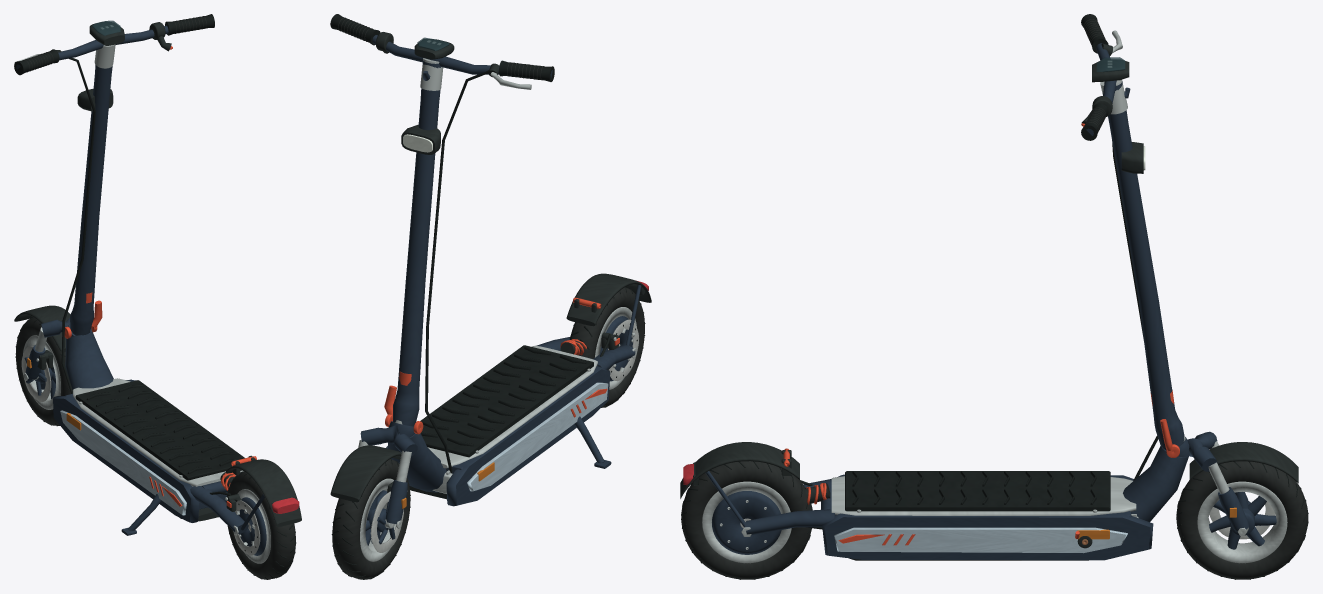
Rendered from StrideC10.glb.
The picture shows the model from 3 angles, left to right: view 1: azimuth 30°, elevation 25°; view 2: azimuth 150°, elevation 25°; view 3: azimuth 270°, elevation 25°; orthographic projection. The views are drawn at different scales.
Parts seen in each view (by area): view 1: Floorboard, DeckFrame, SteeringStem, RearTire, RearFender, HeadTube, FrontTire, RearSwingarm, WiringHarness, FrontFender, Handlebar, FrontRim (+10 smaller); view 2: Floorboard, SteeringStem, DeckFrame, FrontTire, RearTire, RearFender, FrontFender, HeadTube, WiringHarness, FrontRim, ForkSlider_L, Handlebar (+11 smaller); view 3: DeckFrame, Floorboard, SteeringStem, FrontTire, RearTire, FrontRim, RearHubMotor, HeadTube, RearFender, RearRim, FrontFender, RearSwingarm (+3 smaller).
Part boxes in pixels (<box>): Floorboard: <box>73,378,244,486</box>; DeckFrame: <box>53,379,227,522</box>; SteeringStem: <box>70,44,115,335</box>; RearTire: <box>225,471,296,579</box>; RearFender: <box>226,459,301,530</box>; HeadTube: <box>65,331,113,389</box>; FrontTire: <box>15,317,71,426</box>; RearSwingarm: <box>190,481,248,535</box>; WiringHarness: <box>61,58,95,393</box>; FrontFender: <box>14,305,70,352</box>; Handlebar: <box>16,25,168,69</box>; FrontRim: <box>23,335,60,409</box>; Floorboard: <box>420,345,597,468</box>; SteeringStem: <box>393,58,443,426</box>; DeckFrame: <box>386,366,610,506</box>; FrontTire: <box>331,458,410,579</box>; RearTire: <box>569,287,645,407</box>; RearFender: <box>566,273,651,345</box>; FrontFender: <box>330,445,401,502</box>; HeadTube: <box>387,433,446,492</box>; WiringHarness: <box>425,70,488,473</box>; FrontRim: <box>360,478,396,561</box>; ForkSlider_L: <box>386,450,411,528</box>; Handlebar: <box>372,35,552,77</box>; DeckFrame: <box>822,474,1153,560</box>; Floorboard: <box>831,471,1136,515</box>; SteeringStem: <box>1100,80,1184,448</box>; FrontTire: <box>1176,461,1308,579</box>; RearTire: <box>681,461,812,579</box>; FrontRim: <box>1197,481,1287,563</box>; RearHubMotor: <box>712,491,781,554</box>; HeadTube: <box>1123,446,1189,521</box>; RearFender: <box>680,442,799,527</box>; RearRim: <box>702,481,791,563</box>; FrontFender: <box>1189,442,1298,483</box>; RearSwingarm: <box>741,479,836,536</box>.
Size of the model in its own units: 0.5063 by 1.08 by 1.19.
15 materials, 15 textured.
